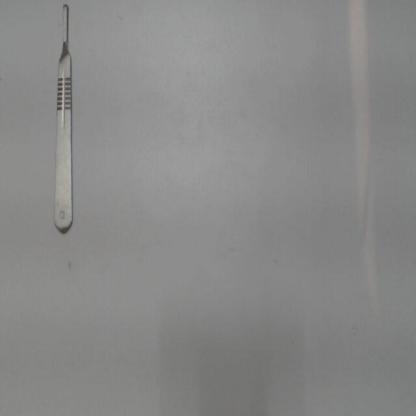No.4 BP Handle: (50, 2, 81, 240)
